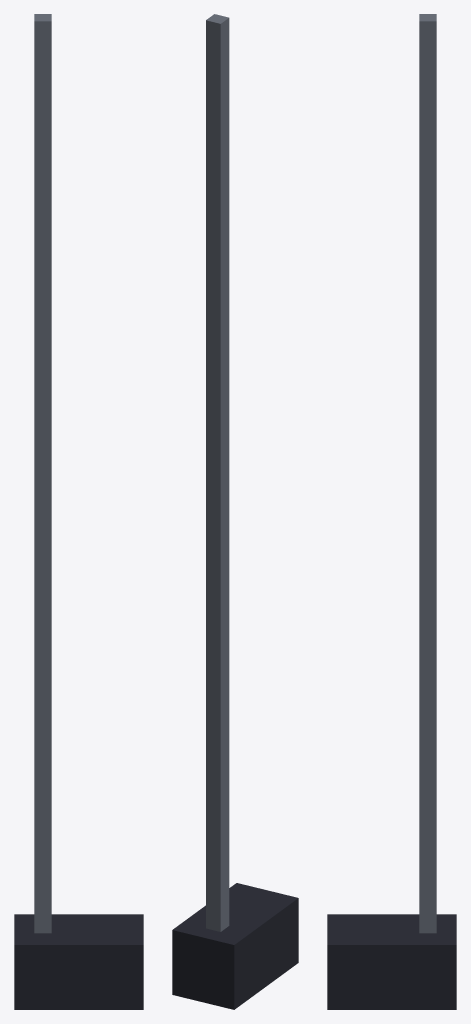
The model's file is club.glb.
The picture shows the model from 3 angles, left to right: view 1: azimuth 90°, elevation 25°; view 2: azimuth 150°, elevation 25°; view 3: azimuth 270°, elevation 25°; orthographic projection.
Visible parts, largest first — view 1: club; view 2: club; view 3: club.
Part boxes in pixels (x1=…): club: x1=14, y1=14, x2=143, y2=1009; club: x1=172, y1=14, x2=298, y2=1009; club: x1=327, y1=14, x2=456, y2=1009.
Bounding box in the file's own units: 0.05 × 0.75 × 0.09.
Materials: 1 (1 with a texture image).
